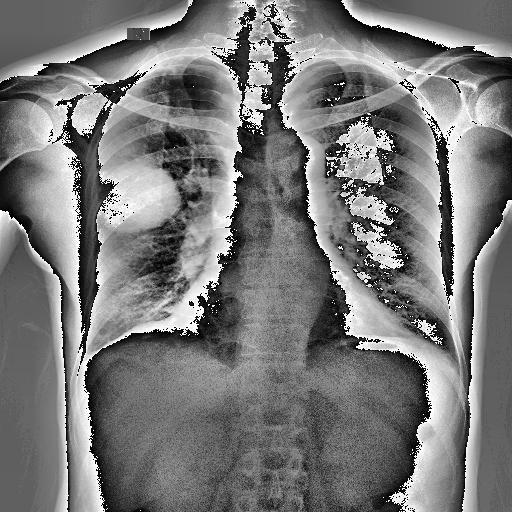0- Aortic enlargement: (276, 130, 330, 194), (260, 130, 327, 181)
10- Pleural effusion: (84, 344, 95, 364)
11- Pleural thickening: (144, 55, 225, 76), (144, 53, 222, 74), (318, 56, 380, 70), (84, 344, 95, 364)
13- Pulmonary fibrosis: (162, 307, 190, 318)
3- Cardiomegaly: (170, 296, 402, 350), (166, 295, 398, 346)
7- Lung Opacity: (82, 166, 180, 232)
8- Nodule-Mass: (82, 166, 180, 232), (95, 162, 183, 234), (100, 165, 182, 234)
